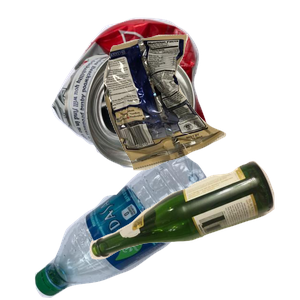glass: (87, 158, 300, 300)
metal: (48, 15, 251, 175)
plastic: (32, 154, 242, 300)
trash: (101, 32, 300, 195)
